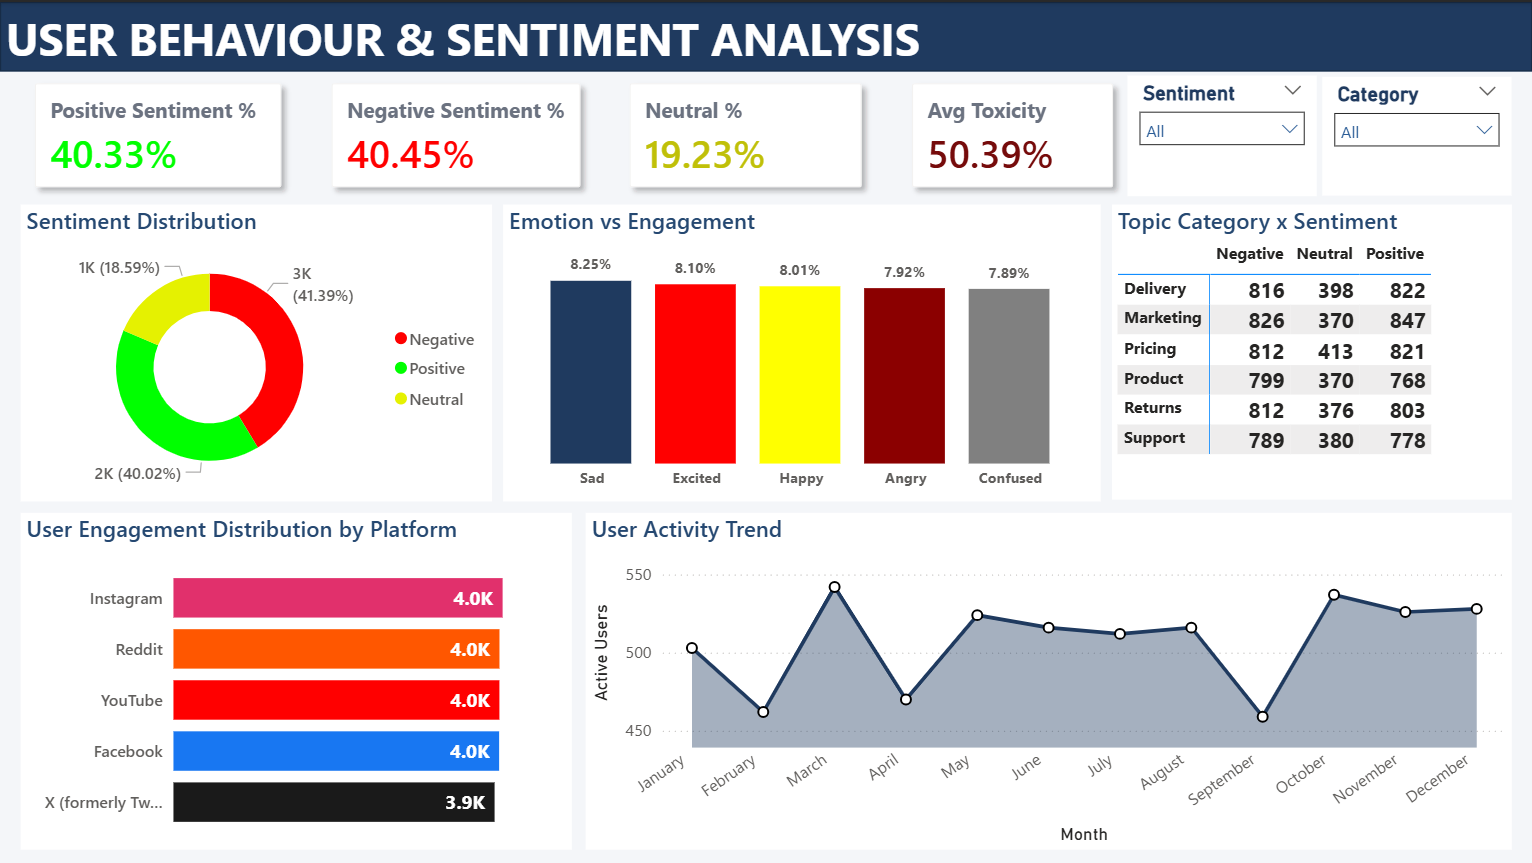

This screenshot's page, from the dashboard's own definition file:
{"tool":"powerbi","page":{"name":"User Behaviour & Sentiment Analysis","canvas":[1280,720],"ordinal":3},"visuals":[{"type":"cardVisual","fields":{"Data":["Measures (2).Avg Toxicity"]},"box":[732.9,38.3,226.4,145.3],"z":0},{"type":"cardVisual","fields":{"Data":["Measures (2).Neutral %"]},"box":[497.3,38.3,252.6,145.3],"z":1000},{"type":"cardVisual","fields":{"Data":["Measures (2).Positive Sentiment %"]},"box":[0,38.3,264.4,145.3],"z":2000},{"type":"shape","box":[0,0,1279.9,58],"z":3000},{"type":"textbox","box":[0,0,821.9,68.1],"z":4000},{"type":"slicer","fields":{"Values":["Social Media Engagement Dataset.topic_category"]},"box":[1104.6,62.5,158,99.5],"z":5000},{"type":"donutChart","title":"Sentiment Distribution","fields":{"Category":["Social Media Engagement Dataset.sentiment_label"],"Y":["Measures (2).Total Posts"]},"box":[17,168.8,393.4,247.7],"z":7000},{"type":"clusteredColumnChart","title":"Emotion vs Engagement","fields":{"Y":["Measures (2).Engagement Rate %"],"Category":["Social Media Engagement Dataset.emotion_type"]},"box":[420.2,168.8,499.1,247.7],"z":8000},{"type":"slicer","fields":{"Values":["Social Media Engagement Dataset.sentiment_label"]},"box":[942.3,61.8,158,100.8],"z":9000},{"type":"cardVisual","fields":{"Data":["Measures (2).Negative Sentiment %"]},"box":[247.3,38.3,267,145.3],"z":10000},{"type":"pivotTable","title":"Topic Category x Sentiment","fields":{"Rows":["Social Media Engagement Dataset.topic_category"],"Columns":["Social Media Engagement Dataset.sentiment_label"],"Values":["Measures (2).Total Posts"]},"box":[929,168.8,333.9,246.5],"z":11000},{"type":"lineChart","title":"User Activity Trend","fields":{"Category":["Social Media Engagement Dataset.Post Date.Variation.Date Hierarchy.Year","Social Media Engagement Dataset.Post Date.Variation.Date Hierarchy.Quarter","Social Media Engagement Dataset.Post Date.Variation.Date Hierarchy.Month"],"Y":["Measures (2).Active Users"]},"box":[489.4,426.2,773.5,281.7],"z":12000},{"type":"clusteredBarChart","title":"User Engagement Distribution by Platform","fields":{"Category":["Social Media Engagement Dataset.platform"],"Y":["Measures (2).Avg Engagement per User"]},"box":[17,426.2,460.2,281.7],"z":13000}]}

Visuals, with their boxes in screenshot pixels (x1, y1, x2, y2), scaled from the page's 1280x720 canvas onto the 1532x863 screenshot:
cardVisual - Measures (2).Avg Toxicity: 877,46,1148,220
cardVisual - Measures (2).Neutral %: 595,46,898,220
cardVisual - Measures (2).Positive Sentiment %: 0,46,316,220
shape: 0,0,1531,70
textbox: 0,0,984,82
slicer - Social Media Engagement Dataset.topic_category: 1322,75,1511,194
"Sentiment Distribution" donutChart: 20,202,491,499
"Emotion vs Engagement" clusteredColumnChart: 503,202,1100,499
slicer - Social Media Engagement Dataset.sentiment_label: 1128,74,1317,195
cardVisual - Measures (2).Negative Sentiment %: 296,46,616,220
"Topic Category x Sentiment" pivotTable: 1112,202,1512,498
"User Activity Trend" lineChart: 586,511,1512,848
"User Engagement Distribution by Platform" clusteredBarChart: 20,511,571,848
